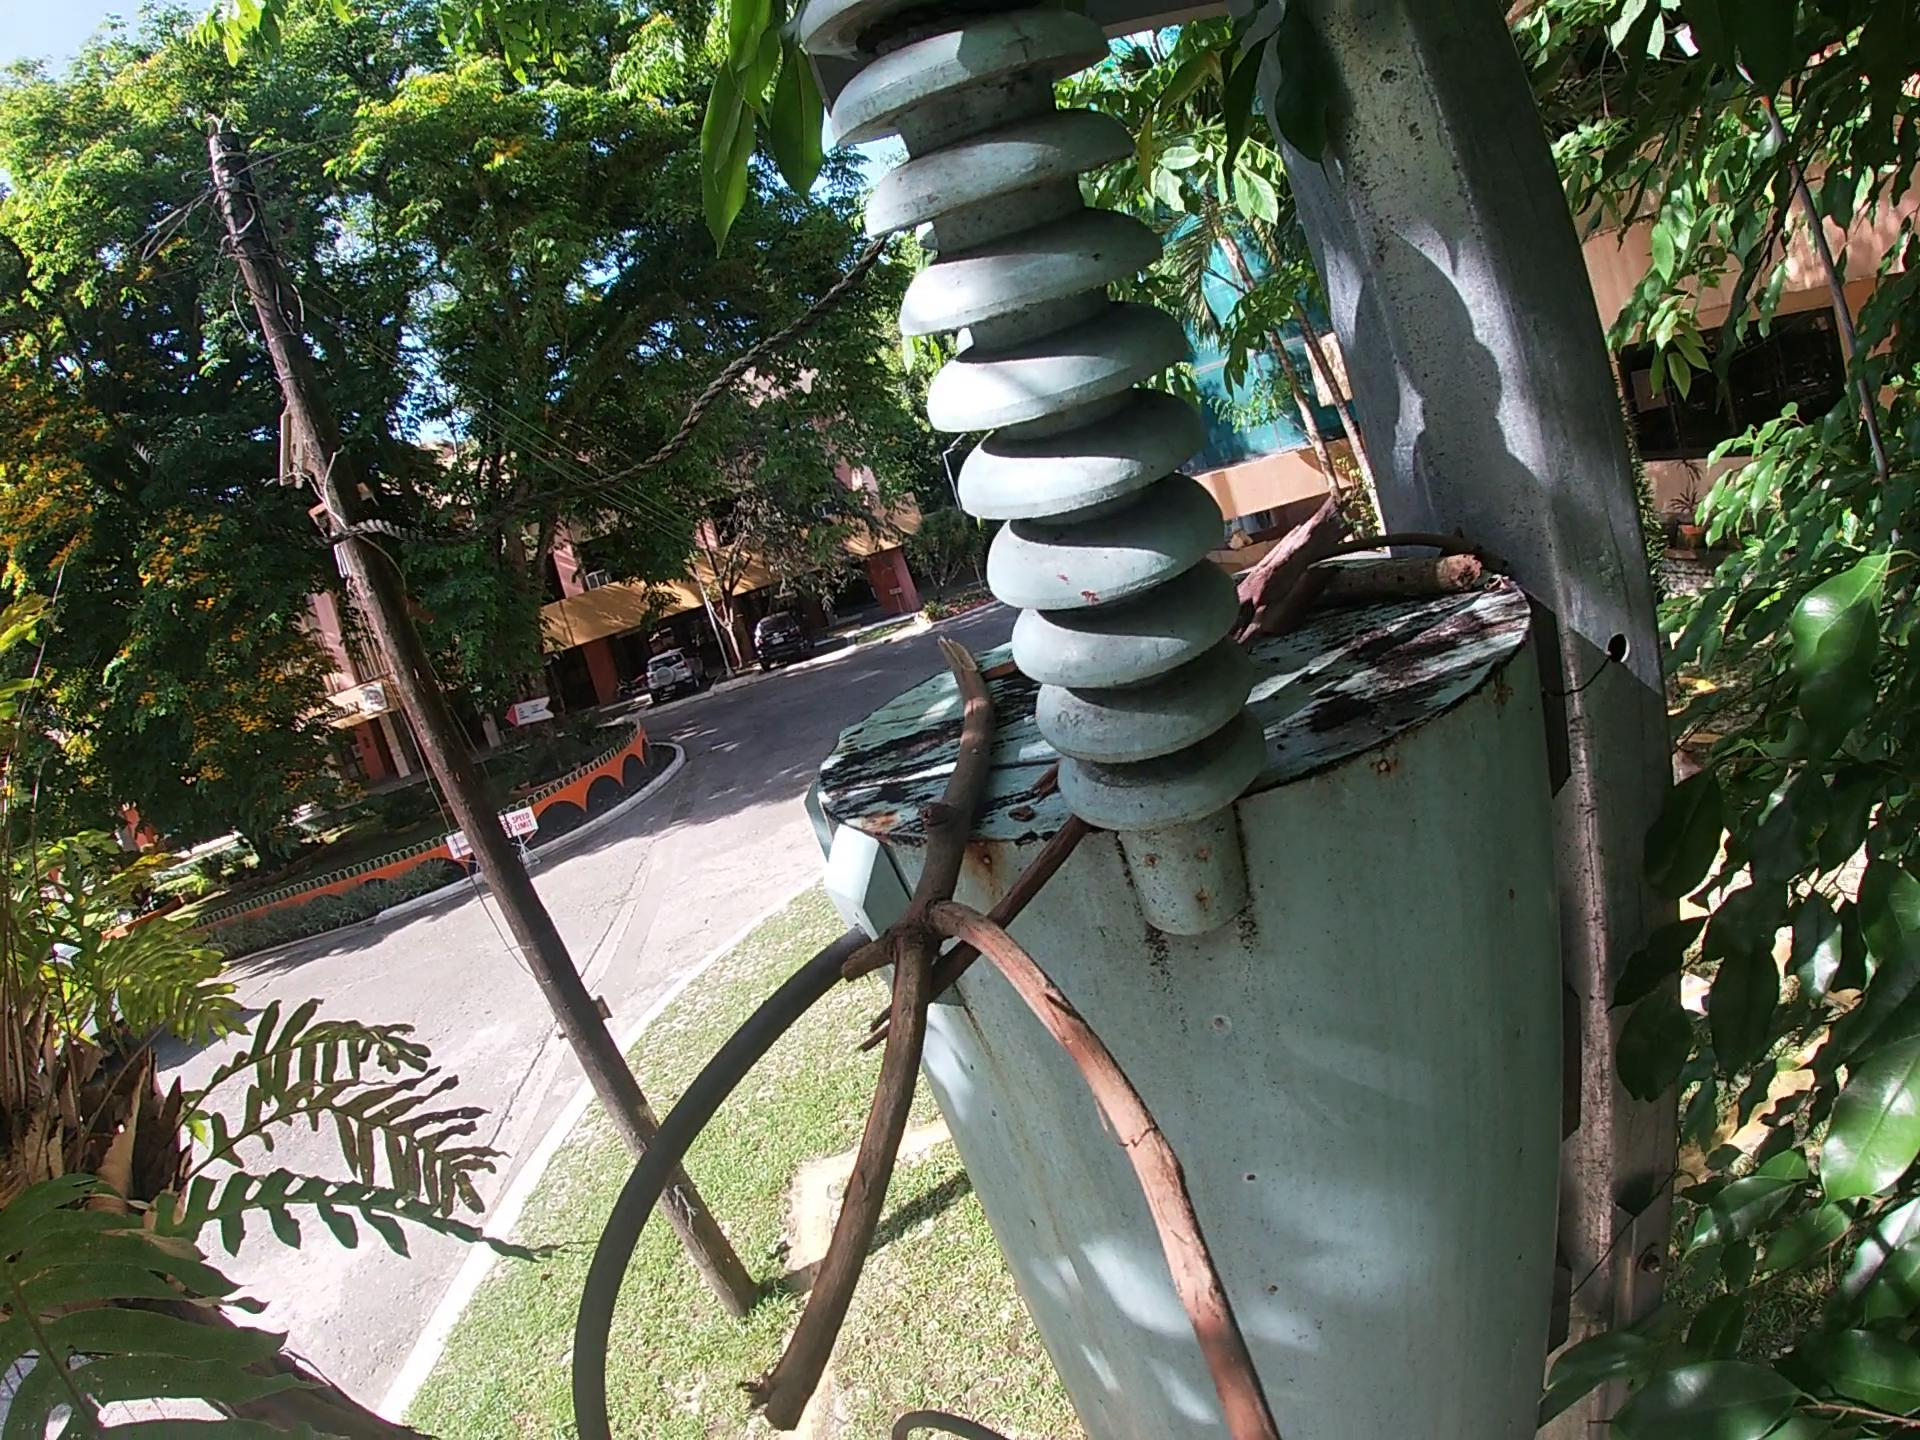leaf: (1287, 567, 1339, 626)
mahogany fruit: (978, 659, 1019, 691)
tree branch: (701, 607, 1306, 1438), (859, 818, 1095, 1053), (1220, 490, 1356, 655), (1281, 546, 1504, 623), (1308, 528, 1477, 554), (986, 749, 1070, 777), (1017, 781, 1067, 809)
